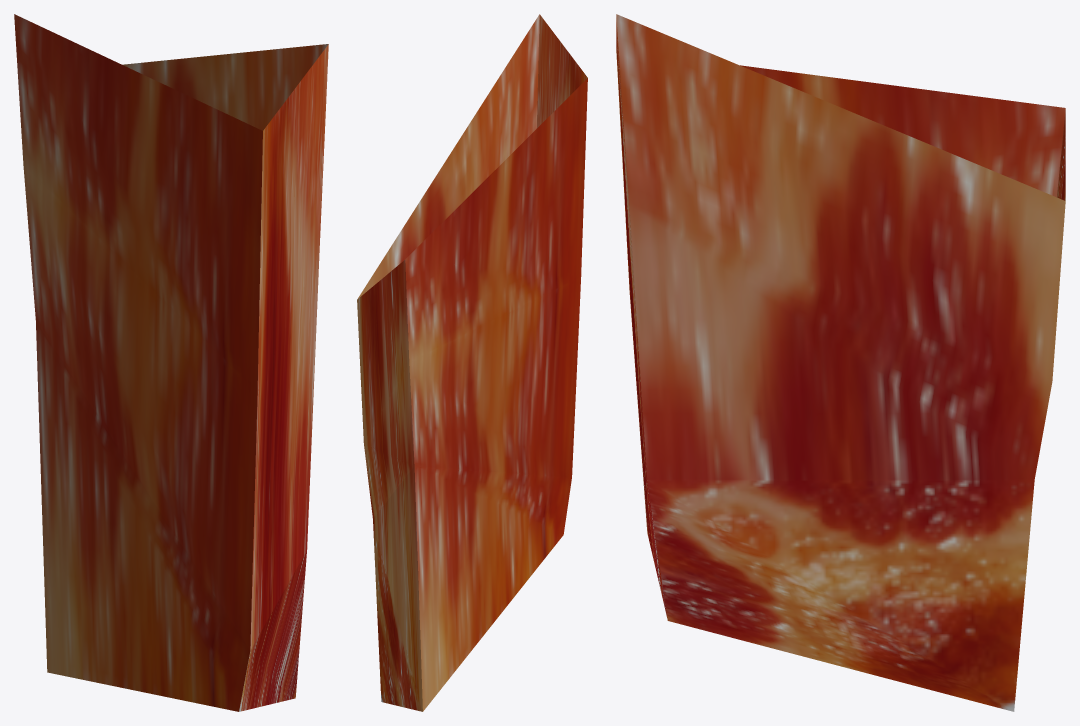
Rendered from BACON3.fbx.
3 views of the same model, side by side, from view 1: azimuth 30°, elevation 25°; view 2: azimuth 150°, elevation 25°; view 3: azimuth 270°, elevation 25° (orthographic). The views are drawn at different scales.
Parts seen in each view (by area): view 1: Cube; view 2: Cube; view 3: Cube.
Boxes of the visible parts, bbox=[...] form: Cube: bbox=[14, 14, 328, 711]; Cube: bbox=[357, 14, 587, 711]; Cube: bbox=[616, 14, 1065, 711].
Bounding box in the file's own units: 16.51 × 186 × 108.
